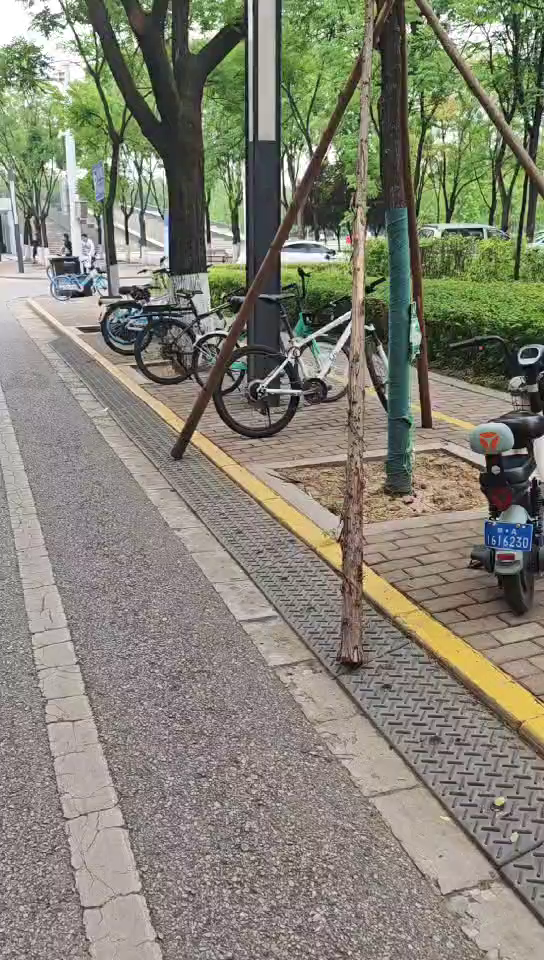others: (443, 317, 544, 602), (224, 290, 417, 430)
shared_bike_qingcong: (196, 277, 344, 403)
